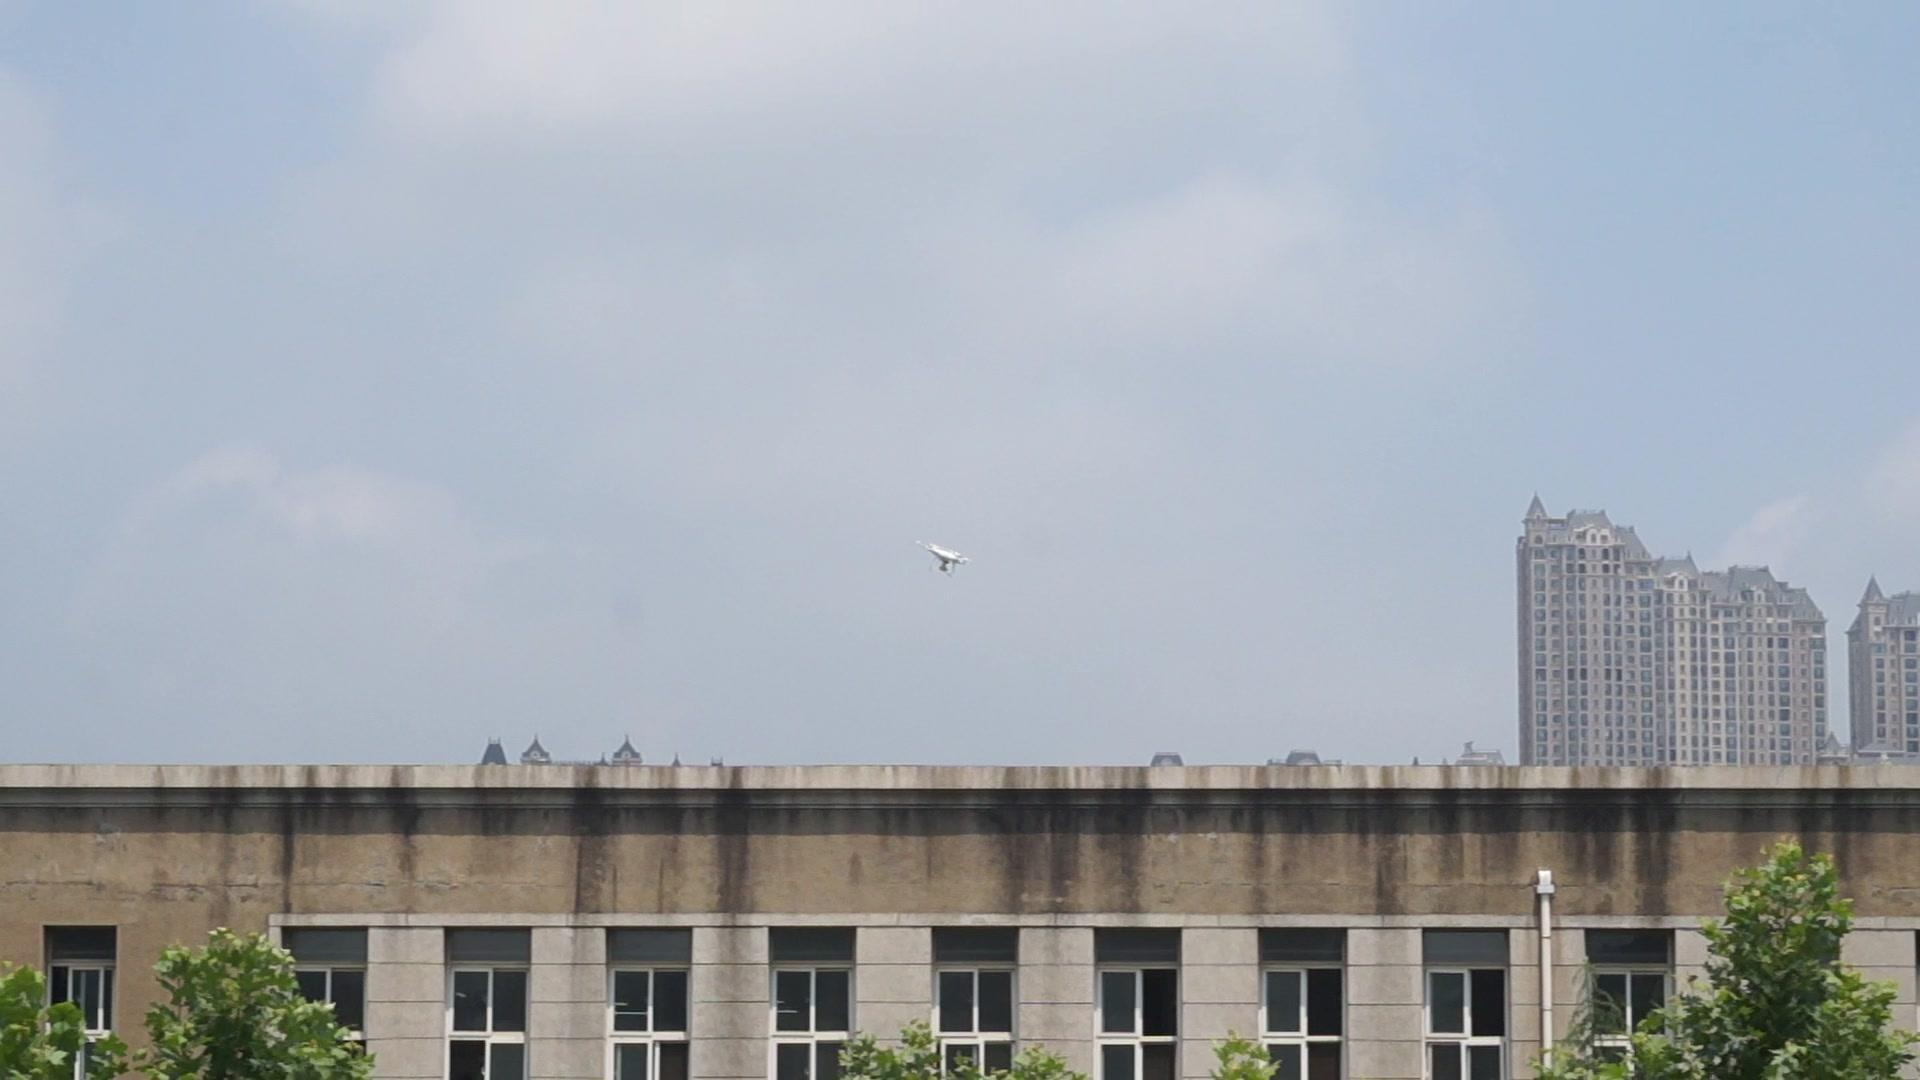UAV: (916, 541, 972, 579)
